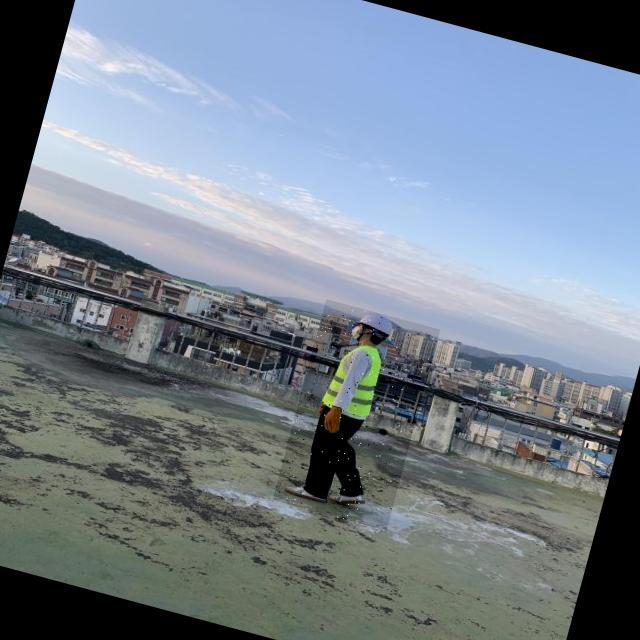Gloves: (321, 404, 344, 434)
Helmet: (353, 309, 395, 336)
Person: (277, 298, 402, 518)
Safety Boot: (283, 483, 328, 504), (328, 488, 367, 511)
Safety Vest: (320, 338, 386, 419)
